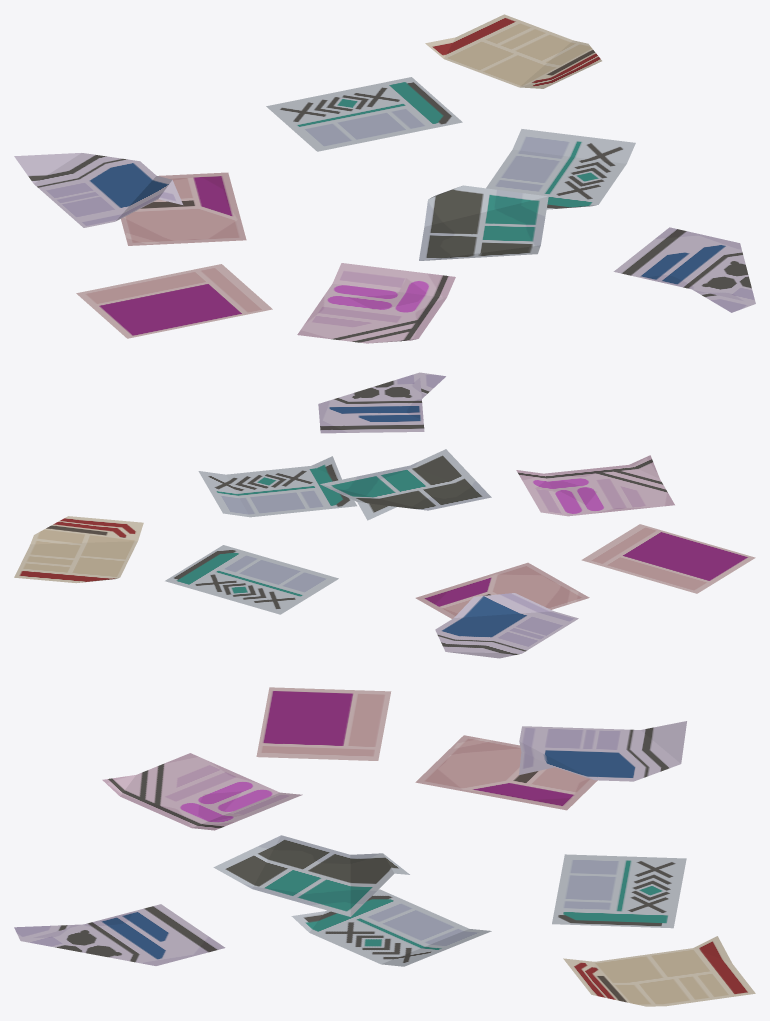
The model's file is SM_Prop_Junk_Paper_04.fbx.
3 views of the same model, one above another, from view 1: azimuth 30°, elevation 25°; view 2: azimuth 150°, elevation 25°; view 3: azimuth 270°, elevation 25° (orthographic). The views are drawn at different scales.
Parts seen in each view (by area): view 1: SM_Prop_Junk_Paper_04; view 2: SM_Prop_Junk_Paper_04; view 3: SM_Prop_Junk_Paper_04.
Part boxes in pixels (<box>): SM_Prop_Junk_Paper_04: <box>14,14,755,343</box>; SM_Prop_Junk_Paper_04: <box>14,372,755,658</box>; SM_Prop_Junk_Paper_04: <box>14,687,755,1006</box>.
Size of the model in its own units: 149 by 2.66 by 145.
